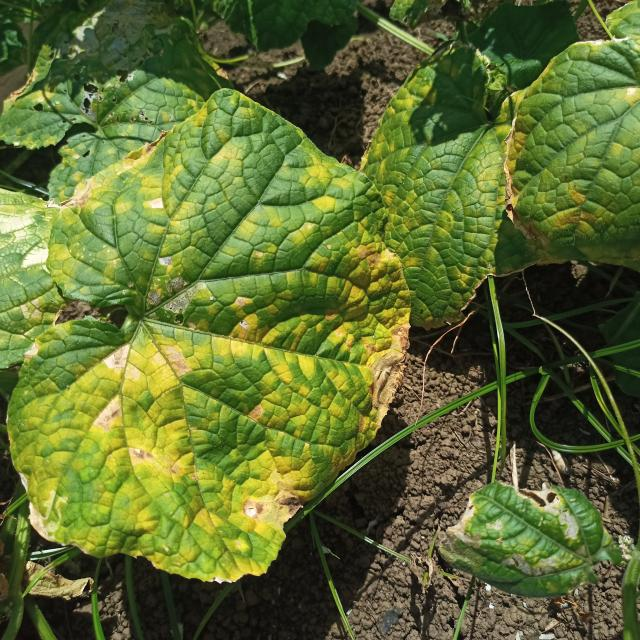disease_cucumber: (18, 91, 412, 578)
